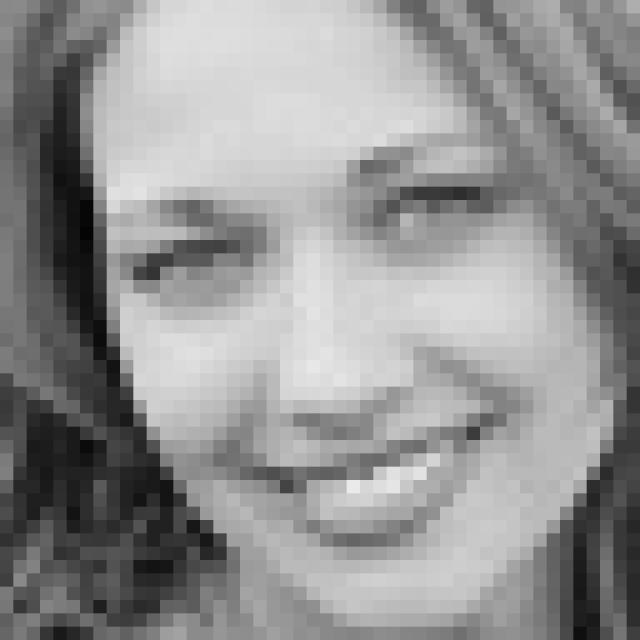happy: (110, 130, 528, 560)
